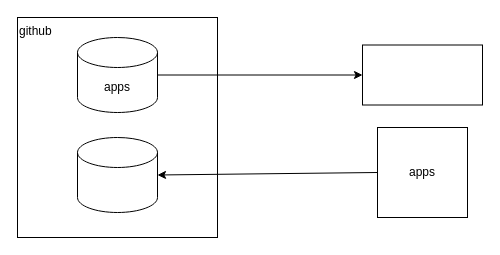
This 500x255 diagram has some shape labels left out. The shapes that lost their labels are listed below. From the top down, each one's centre as x and y in pixels, then its label:
At (422,74): "container repository".
At (117,174): "orchestrator".
